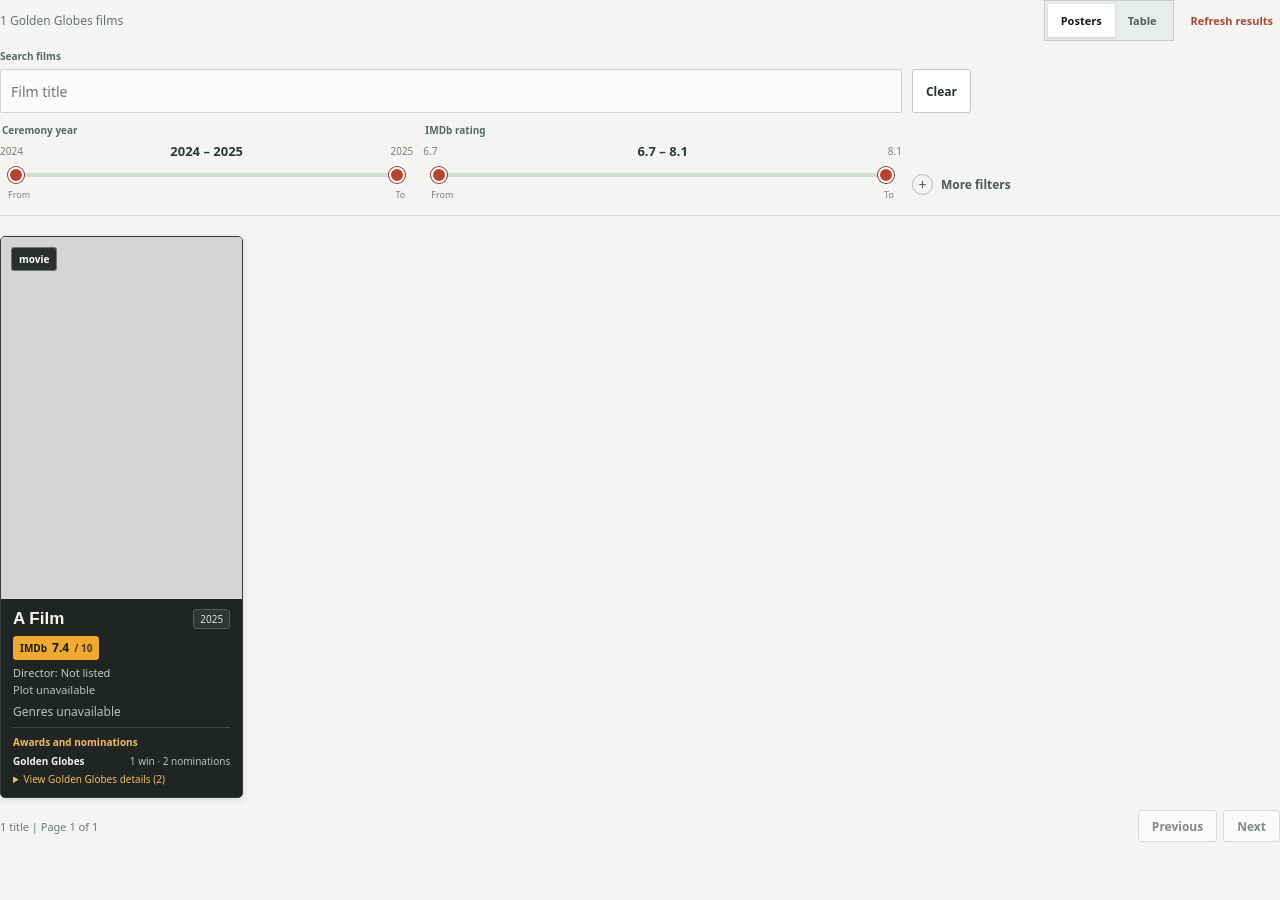
it: GoldenGlobeCatalogView › opens combined award details from the shared poster card
Click the button with aria-label "View A Film details". click: click(122, 418)
box: [1, 237, 242, 599]
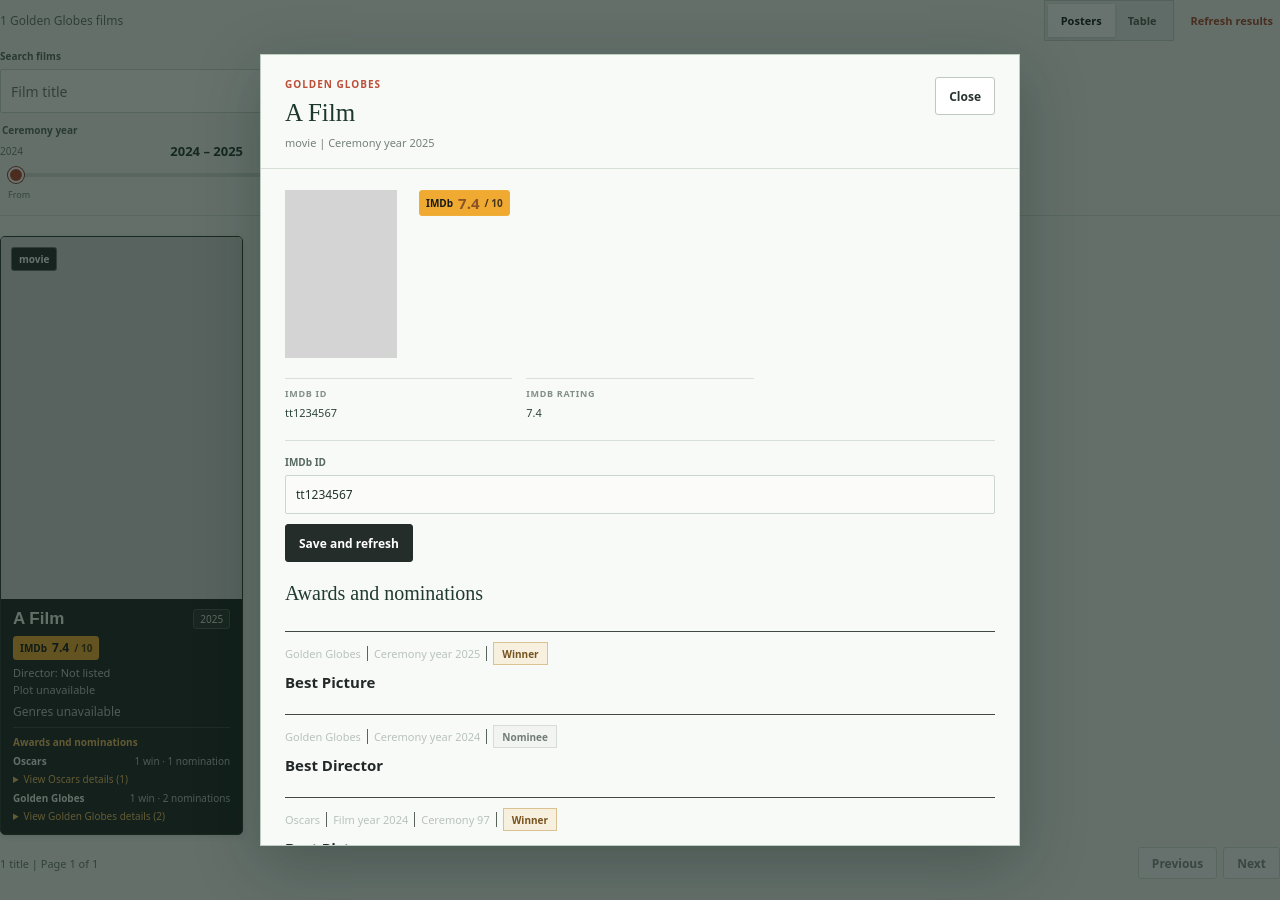
Now the heading "A Film" is shown, box [285, 99, 355, 126]
Now the heading "Awards and nominations" is shown, box [285, 582, 483, 605]
Now the text "Ceremony year 2025" is shown, box [374, 646, 487, 661]
